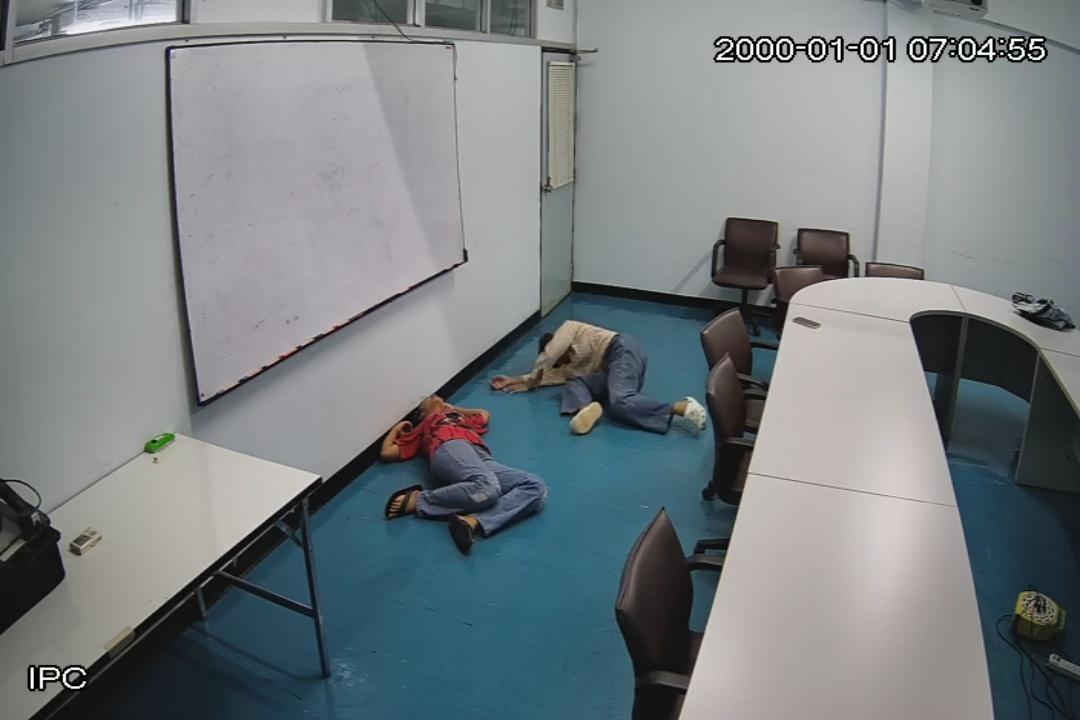fall: (382, 392, 548, 550), (494, 319, 704, 432)
